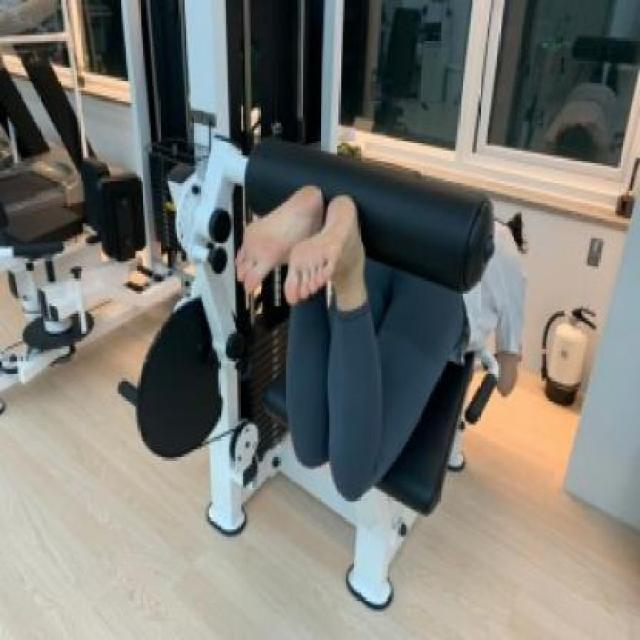reg curl machine: (117, 0, 531, 618)
